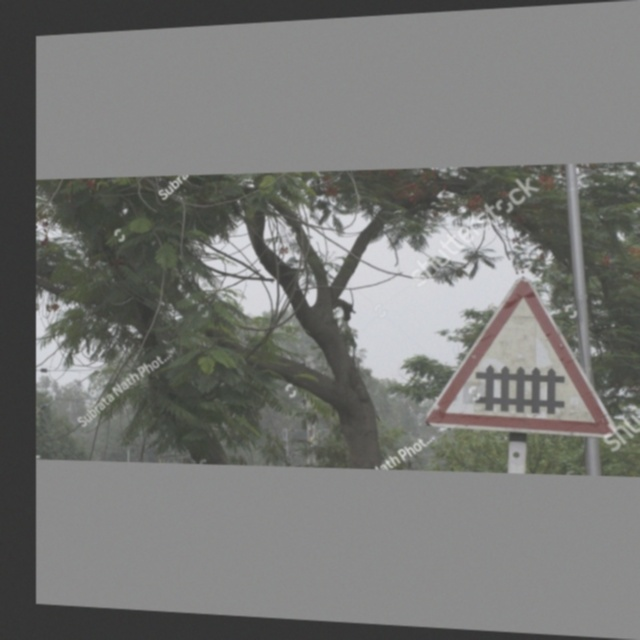Guarded_Level_Crossing: (428, 279, 610, 436)
